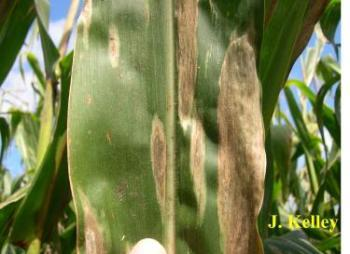Corn leaf blight: (71, 1, 261, 237)
